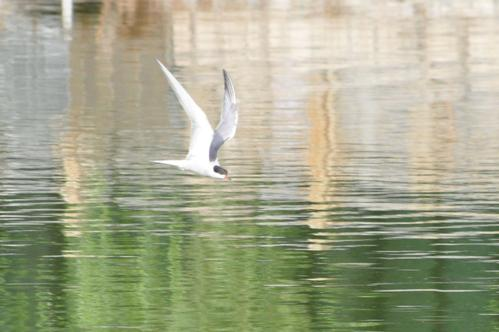warship: (139, 62, 237, 186)
